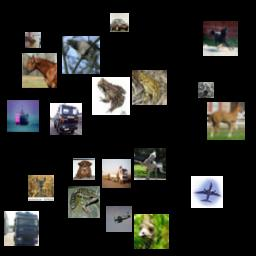airplane: (191, 176, 223, 208), (106, 206, 132, 232)
automobile: (110, 13, 129, 32)
bird: (62, 36, 100, 74), (134, 214, 169, 249), (25, 32, 41, 48)
deer: (28, 175, 54, 201)
dog: (73, 158, 95, 180)
frog: (92, 77, 130, 115), (132, 70, 167, 105), (68, 186, 100, 218), (198, 82, 214, 98)
ship: (7, 100, 39, 132)
truck: (4, 211, 39, 246), (50, 103, 82, 135), (102, 159, 131, 188)
